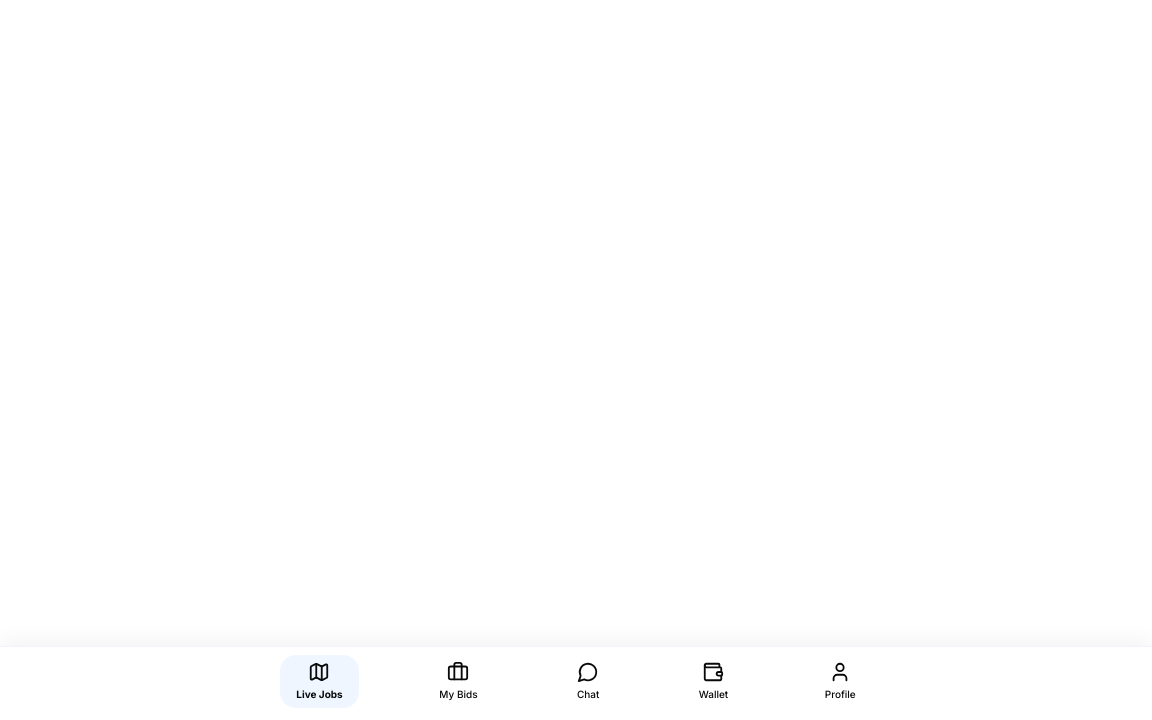
Test: WalletScreen — Sprint 5.6 (refined) › surfaces a safe copy when /summary errors (no raw payload leak)
The width and height of the screenshot is (1152, 720).
Click the link "Wallet" at (713, 680), box [699,661,728,700]
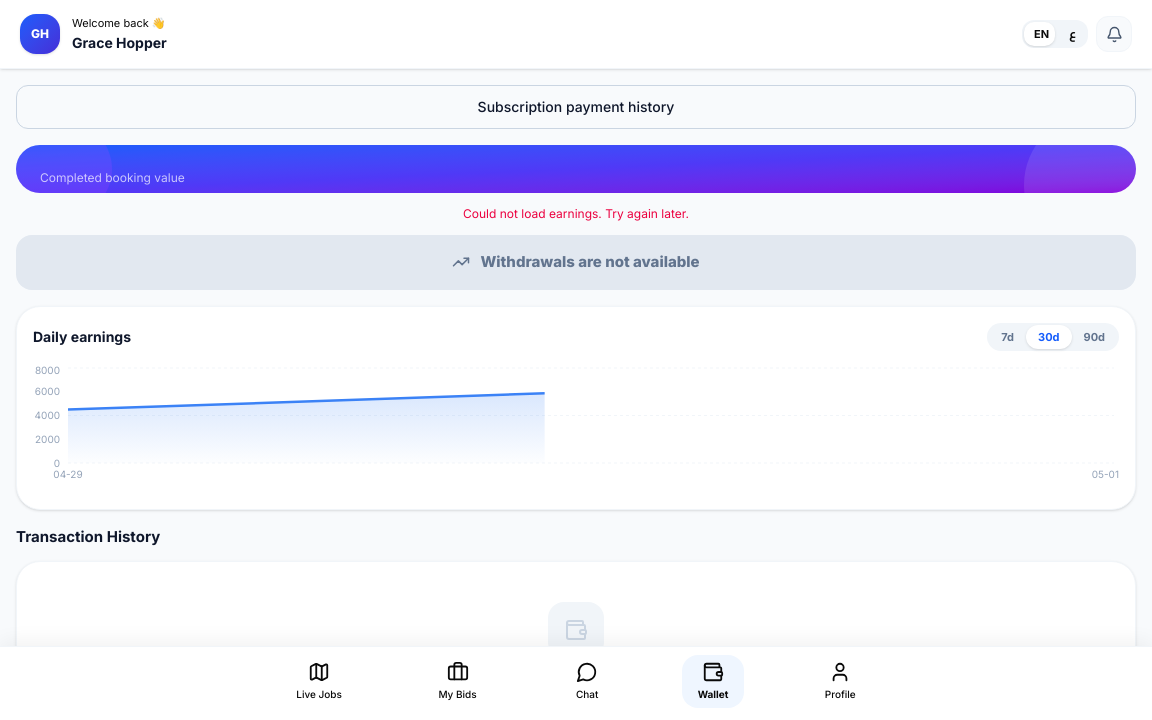
Result: the text "Completed booking value" is shown at [40,170,185,185]
Result: the text "Could not load earnings. Try again later." is shown at [463,206,689,221]
